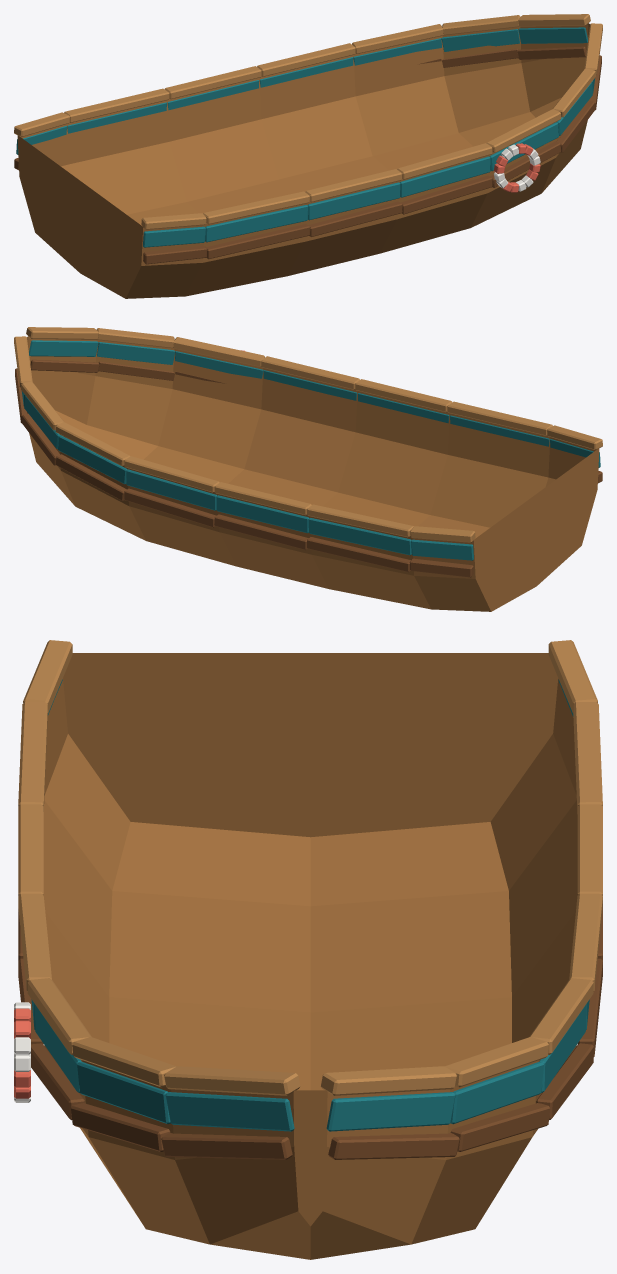
File: mod_houseboat_hull.glb
3 views of the same model, one above another, from view 1: azimuth 30°, elevation 25°; view 2: azimuth 150°, elevation 25°; view 3: azimuth 270°, elevation 25° (orthographic). The views are drawn at different scales.
Visible parts, largest first — view 1: mod_houseboat_hull; view 2: mod_houseboat_hull; view 3: mod_houseboat_hull.
Boxes of the visible parts, x1,y1,x2,y2 form: mod_houseboat_hull: (14, 14, 602, 298); mod_houseboat_hull: (14, 327, 602, 611); mod_houseboat_hull: (14, 640, 602, 1259).
Size of the model in its own units: 5.61 by 1.46 by 2.78.
